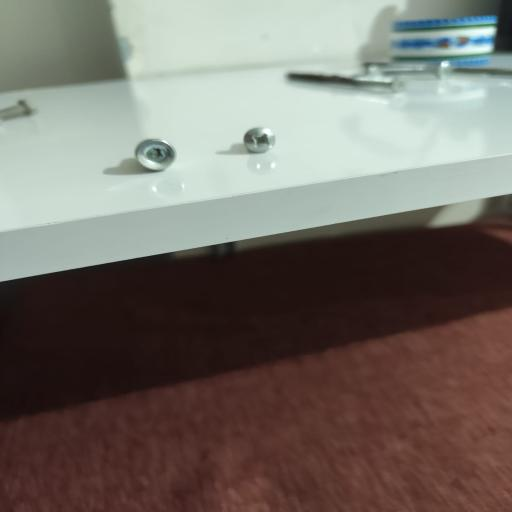Hex-Allen: (133, 135, 180, 176)
Phillips: (238, 124, 283, 163)
